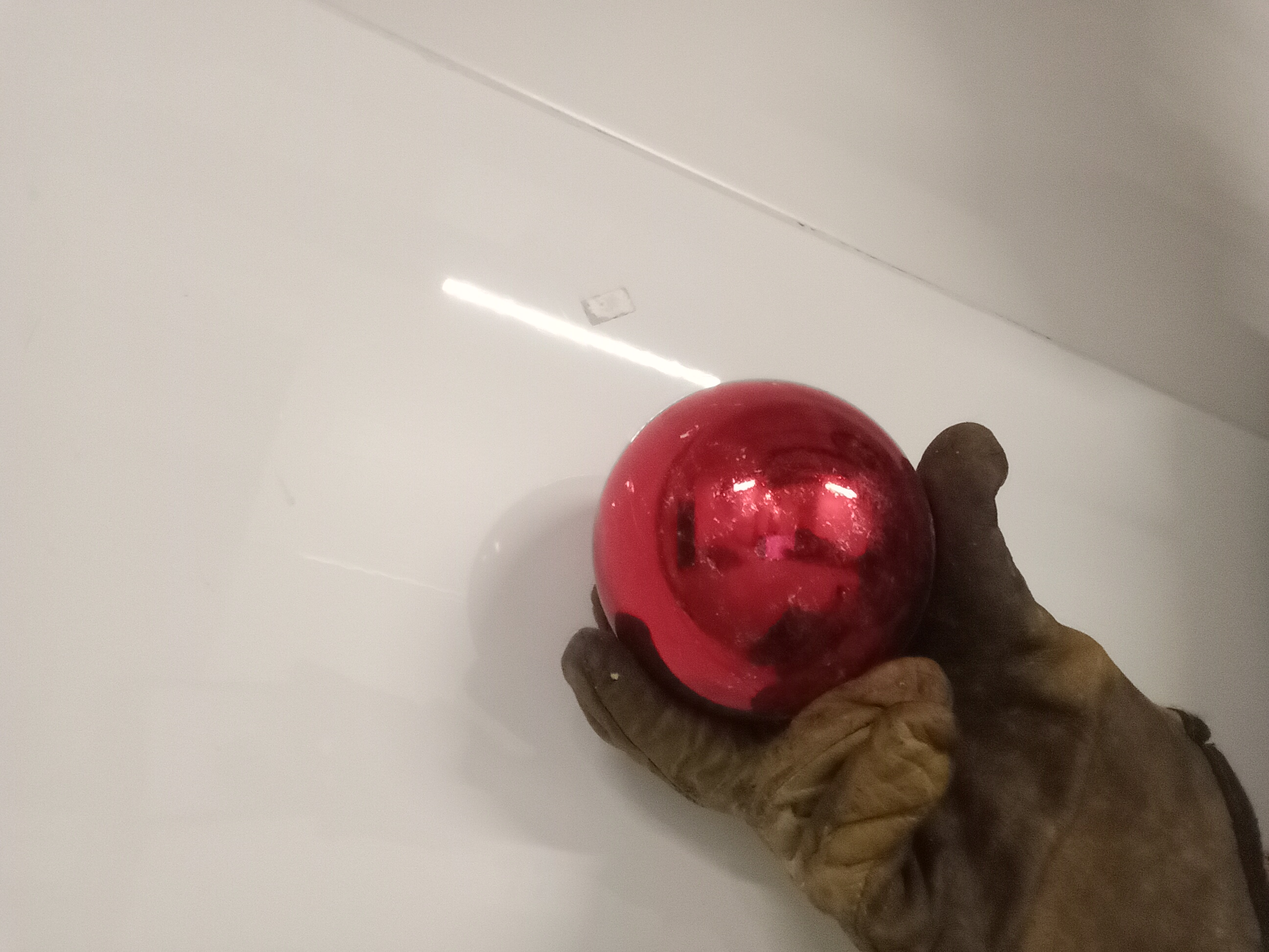Ordinario: (589, 382, 934, 717)
